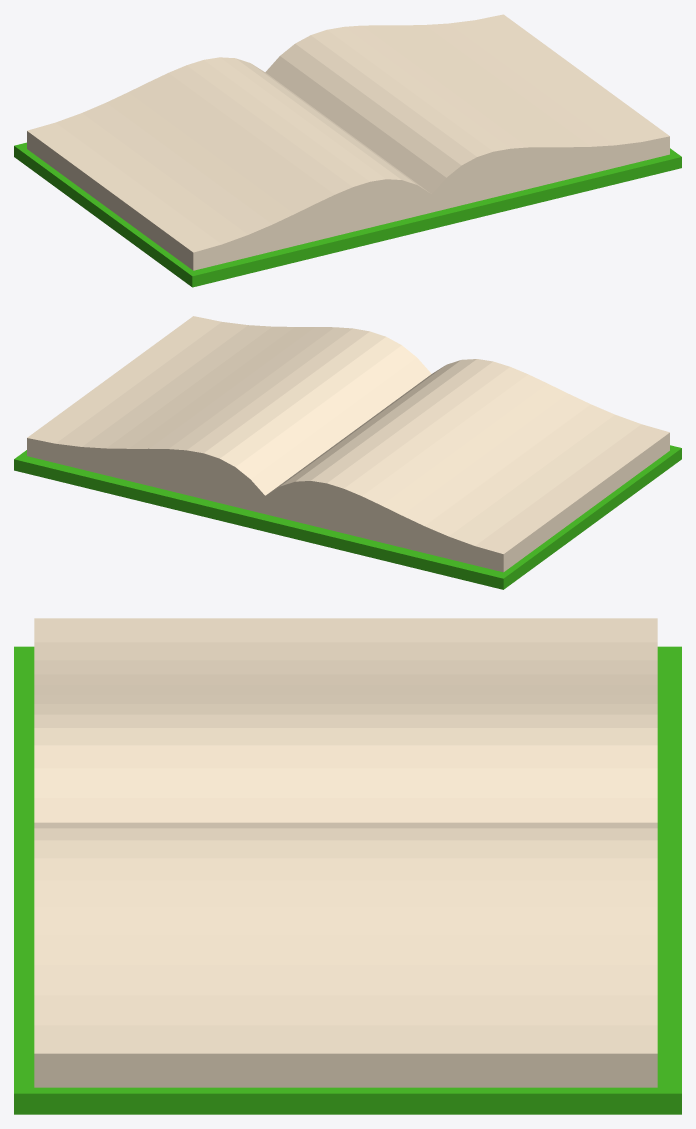
The model's file is book.obj.
3 views of the same model, one above another, from view 1: azimuth 30°, elevation 25°; view 2: azimuth 150°, elevation 25°; view 3: azimuth 270°, elevation 25° (orthographic). The views are drawn at different scales.
Parts seen in each view (by area): view 1: 立方体; view 2: 立方体; view 3: 立方体.
Part boxes in pixels (left/top/right/bottom): 立方体: left=14, top=14, right=681, bottom=287; 立方体: left=14, top=316, right=681, bottom=589; 立方体: left=14, top=618, right=681, bottom=1114.
Bounding box in the file's own units: 4.1 × 0.4575 × 2.59.
1 material, 1 textured.
